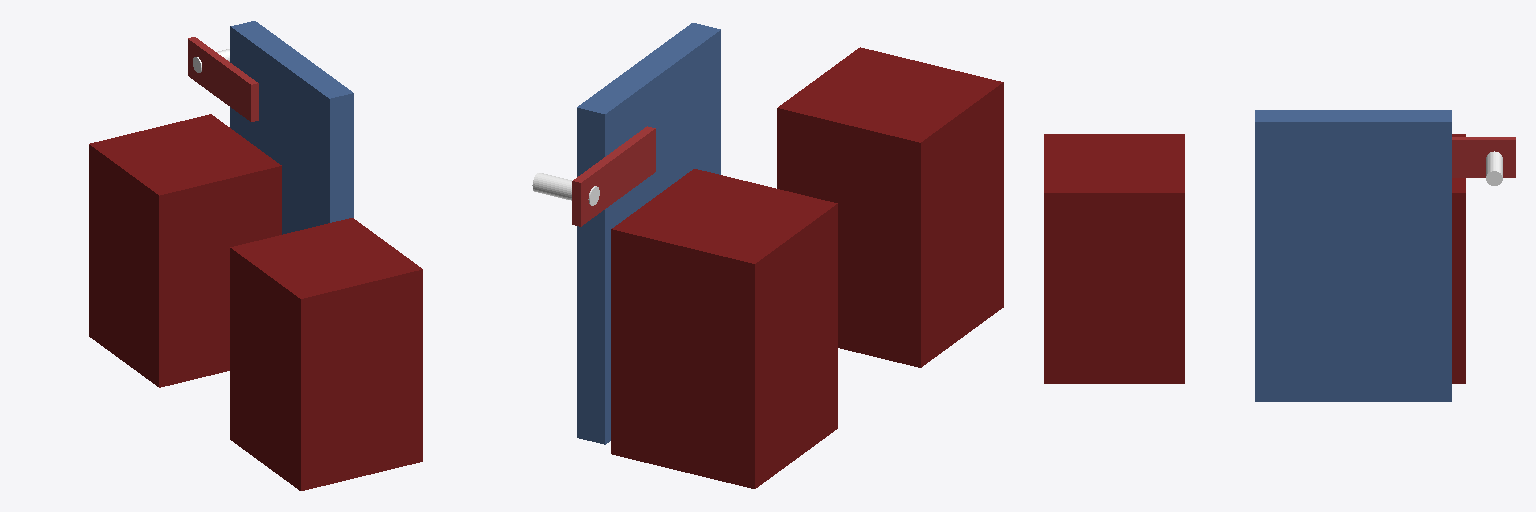
URDF robot description (escape_scene):
<?xml version="1.0"?>
  <robot name="escape_scene">
    <link name="base_link"/>

    <link name="room">
      <visual>
        <geometry>
          <mesh filename="file://[local-path]/Desktop/blenderFLEX/room.dae" scale = " 0.4 0.4 0.3"/>
        </geometry>
        <origin rpy="0 0 0" xyz="0 0 0" />
      <material name = "">
        <color rgba="0.94901960784 0.94901960784 0.94901960784 1"/>
      </material>
      </visual>

      <collision>
        <geometry>
          <mesh filename="file://[local-path]/Desktop/blenderFLEX/room.dae" scale = " 0.4 0.4 0.3"/>
        </geometry>
        <origin rpy="0 0 0" xyz="0 0 0" />       
       </collision>
    </link>


        <link name="shelf">
      <visual>
        <geometry>
          <mesh filename="file://[local-path]/Desktop/blenderFLEX/shelf.dae" scale = "0.042 0.05 0.04"/>
        </geometry>
        <origin rpy="0 0 0" xyz="0 0 0" />
      
      <material name = "">
        <color rgba="0.729411 0.549019 0.388235 1"/>
      </material>

      </visual>
      <collision>
        <geometry>
          <mesh filename="file://[local-path]/Desktop/blenderFLEX/shelf.dae" scale = "0.042 0.05 0.04"/>
        </geometry>
        <origin rpy="0 0 0" xyz="0 0 0" />       
       </collision>
    </link>


    <link name="desk">
      <visual>
        <geometry>
          <mesh filename="file://[local-path]/Desktop/blenderFLEX/desk2.dae" scale = "0.01 0.01 0.020"/>
        </geometry>
        <origin rpy="0 0 0" xyz="0 0 0" />
      
    <material name = "">
        <color rgba="0.729411 0.549019 0.388235 1"/>
      </material>

      </visual>
      <collision>
        <geometry>
          <mesh filename="file://[local-path]/Desktop/blenderFLEX/desk2.dae" scale = "0.01 0.01 0.020"/>
        </geometry>
        <origin rpy="0 0 0" xyz="0 0 0" />       
       </collision>
    </link>



    <link name="sofa">
      <visual>
        <geometry>
          <mesh filename="file://[local-path]/Desktop/blenderFLEX/sofa.dae" scale = "0.7 0.7 1"/>
        </geometry>
        <origin rpy="0 0 0" xyz="0 0 0" />
      
      <material name = "">
        <color rgba="0.70196 0.8 1 1"/>
      </material>

      </visual>
      <collision>
        <geometry>
          <mesh filename="file://[local-path]/Desktop/blenderFLEX/sofa.dae" scale = "0.7 0.7 1"/>
        </geometry>
        <origin rpy="0 0 0" xyz="0 0 0" />       
       </collision>
    </link>

    <link name="cube1">
      <visual>
        <geometry>
          <box size="0.5 0.5 0.75"/>
        </geometry>
        <origin rpy="0 0 0" xyz="0 0 0" />
          <material name = "">
          <color rgba="0.541176 0.156862 0.156862 1.0"/>
      </material>
      </visual>
      <collision>
        <geometry>
          <box size="0.5 0.5 0.75"/>
        </geometry>
        <origin rpy="0 0 0" xyz="0 0 0" />      
       </collision>
    </link>


    <link name="cube2">
      <visual>
        <geometry>
          <box size="0.5 0.5 0.75"/>
        </geometry>
        <origin rpy="0 0 0" xyz="0 0 0" />
       <material name = "">
          <color rgba="0.541176 0.156862 0.156862 1.0"/>
      </material>
      </visual>
      <collision>
        <geometry>
          <box size="0.5 0.5 0.75"/>
        </geometry>
        <origin rpy="0 0 0" xyz="0 0 0" />      
       </collision>
    </link>

     <link name="front_door">
      <visual>
        <geometry>
          <box size="0.1 0.7 1.1"/>
        </geometry>
        <origin rpy="0 0 0" xyz="0.0 0.35 0" />
        <material name = "">
          <color rgba="0.349019 0.470588 0.650980 1.0"/>
      </material>
      </visual>
      <collision>
        <geometry>
          <box size="0.1 0.7 1.1"/>
        </geometry>
        <origin rpy="0 0 0" xyz="0.0 0.35 0" />     
       </collision>
    </link>


     <link name="lock_part">
      <visual>
        <geometry>
          <cylinder radius="0.03" length ="0.2"/>
        </geometry>
             <material name = "">
          <color rgba="1 1 1 1.0"/>
      </material>
      </visual>
    </link>


     <link name="door_lock">
      <visual>
        <geometry>
          <box size="0.03 0.45 0.146"/>
        </geometry>
      <origin rpy="0 0 0" xyz="0 -0.15 0" />
             <material name = "">
          <color rgba="0.6901 0.2509 0.2509 1.0"/>
      </material>
      </visual>
      <collision>       
        <geometry>
          <box size="0.03 0.45 0.146"/>
        </geometry>
      <origin rpy="0 0 0" xyz="0 -0.15 0" />
       </collision>
    </link>


<link name ="cube1_y_axis"/>
<link name ="cube2_y_axis"/>


  <joint name="cube1_joint" type="prismatic">
      <origin rpy="0 0 0" xyz="0 0 0" />
      <parent link="base_link" />
      <child link="cube1_y_axis" />
      <axis xyz="0 1 0" />
      <limit lower="-1.10" upper="0.96" effort="0.05" velocity="1.57"/>
  </joint>


  <joint name="cube1_joint2" type="prismatic">
      <origin rpy="0 0 0" xyz="0.95 0.1 0.375" />
      <parent link="cube1_y_axis" />
      <child link="cube1" />
      <axis xyz="1 0 0" />
      <limit lower="-1.5" upper="0.05" effort="0.05" velocity="1.57"/>
  </joint>



  <joint name="cube2_joint" type="prismatic">
      <origin rpy="0 0 0" xyz="0 0 0" />
      <parent link="base_link" />
      <child link="cube2_y_axis" />
      <axis xyz="0 1 0" />
      <limit lower="-0.1" upper="1.90" effort="0.05" velocity="1.57"/>
  </joint>


  <joint name="cube2_joint2" type="prismatic">
      <origin rpy="0 0 0" xyz="0.95 -0.9 0.375" />
      <parent link="cube2_y_axis" />
      <child link="cube2" />
      <axis xyz="1 0 0" />
      <limit lower="-1.5" upper="0.05" effort="0.05" velocity="1.57"/>
  </joint>


  <joint name="front_door_joint" type="revolute">
      <origin rpy="0 0 0" xyz="1.30 -0.4 0.55"/>
      <parent link="base_link"/>
      <child link="front_door"/>
      <axis xyz="0 0 1"/>
      <limit lower="0" upper="1.57" effort="0.05" velocity="1.57"/>
  </joint>



 <joint name="door_lock_joint" type="revolute">
      <origin rpy="0 0 0" xyz="1.22 0.45 0.90"/>
      <parent link="base_link"/>
      <child link="door_lock"/>
      <axis xyz="1 0 0"/>
      <limit lower="0" upper="1.57" effort="0.05" velocity="1.57"/>
  </joint>



  <joint name="desk_joint" type="fixed">
      <origin rpy="0 0 1.57" xyz="0.30 0.6 0.0"/>
      <parent link="base_link"/>
      <child link="desk"/>
      <axis xyz="0 0 1"/>
  </joint>


<joint name="room_j" type="fixed">
    <origin rpy="0 0 -1.57" xyz="0 0 0.0" />
    <parent link="base_link" />
    <child link="room" />
    <axis xyz="0 1 0" />
  </joint>

<joint name="shelf_j" type="fixed">
    <origin rpy="0 0 -1.57" xyz="1.1 0.9 0.0" />
    <parent link="base_link" />
    <child link="shelf" />
    <axis xyz="0 1 0" />
  </joint>


  <joint name="lock_part_j" type="fixed">
    <origin rpy="0 1.57 0" xyz="1.3 0.45 0.9"/>
      <parent link="base_link"/>
      <child link="lock_part"/>
      <axis xyz="0.0 0.0 1"/>
  </joint>

<joint name="sofa_joint" type="fixed">
        <origin rpy="0 0 1.57" xyz="-0.90 -0.2 0.0"/>
        <parent link="base_link"/>
        <child link="sofa"/>
        <axis xyz="0 0 1"/>
        <limit lower="-1.57" upper="1.57" effort="0.05" velocity="1.57"/>
    </joint>



</robot>

--- Facts derived from the render (not from the file) ---
Views: 3 orthographic renders of the robot side by side, from view 1: azimuth 30°, elevation 25°; view 2: azimuth 150°, elevation 25°; view 3: azimuth 270°, elevation 25°.
Model escape_scene with 12 links and 11 joints (2 revolute, 4 prismatic, 5 fixed), rooted at base_link, posed every joint at zero.
Links seen in each view (by area): view 1: cube2, cube1, front_door, door_lock; view 2: cube1, cube2, front_door, door_lock, lock_part; view 3: front_door, cube2, cube1, door_lock, lock_part.
Boxes of the visible links, left/top/right/bottom form: cube2: left=230, top=218, right=422, bottom=490; cube1: left=89, top=114, right=281, bottom=387; front_door: left=230, top=21, right=353, bottom=234; door_lock: left=188, top=37, right=258, bottom=121; cube1: left=611, top=169, right=837, bottom=488; cube2: left=777, top=47, right=1003, bottom=367; front_door: left=577, top=23, right=720, bottom=444; door_lock: left=572, top=126, right=655, bottom=226; lock_part: left=532, top=173, right=599, bottom=205; front_door: left=1255, top=110, right=1451, bottom=401; cube2: left=1044, top=134, right=1184, bottom=383; cube1: left=1452, top=134, right=1465, bottom=383; door_lock: left=1452, top=137, right=1515, bottom=177; lock_part: left=1486, top=151, right=1502, bottom=185.
Bounding box of the posed robot: 0.7 × 1.68 × 1.1 m (x, y, z).
Geometry: only primitive shapes (box / cylinder / sphere) drawn; not drawn: 4 mesh visuals (reference in a form the renderer does not follow).